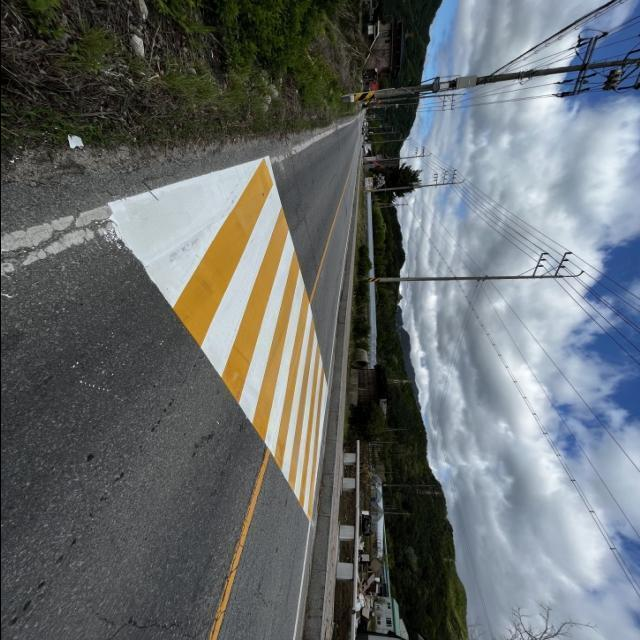speedbreaker: (103, 150, 335, 530)
